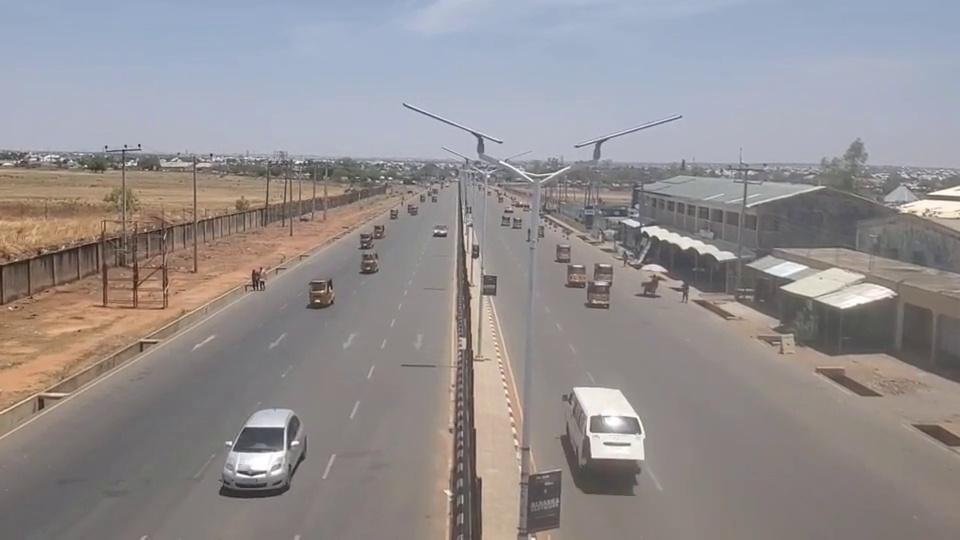keke: (307, 277, 334, 306), (360, 251, 378, 273)
